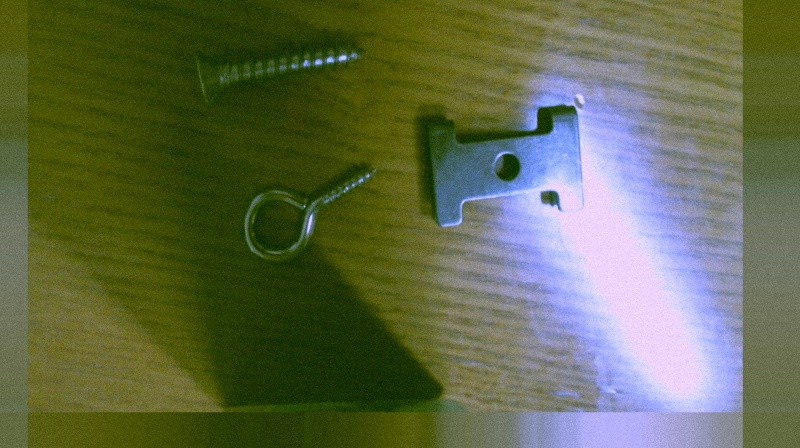O001: (239, 161, 378, 263)
O002: (423, 103, 585, 229)
S001: (190, 41, 369, 109)
